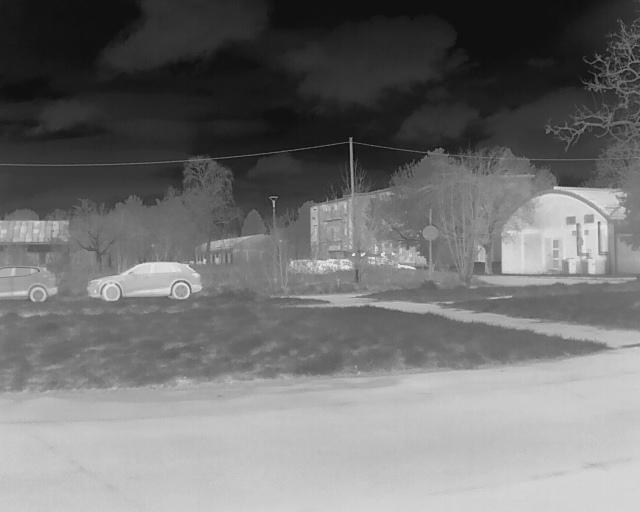drone: (338, 238, 386, 274)
